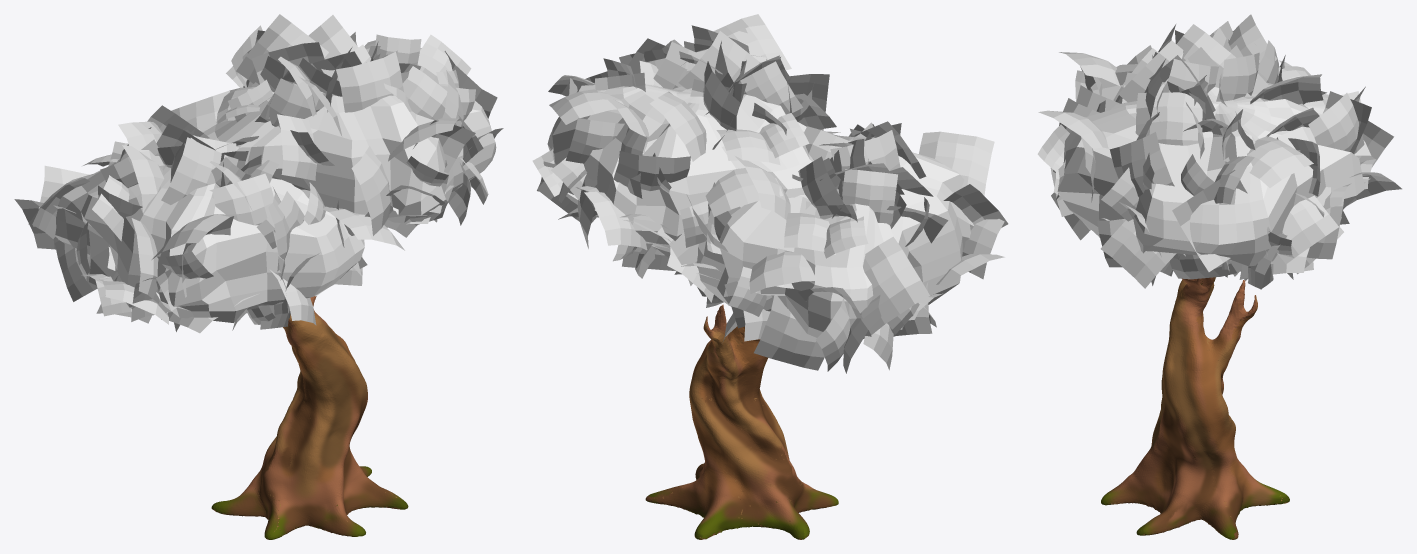
The model's file is cherry_blossom_tree2.1.fbx.
The picture shows the model from 3 angles, left to right: view 1: azimuth 30°, elevation 25°; view 2: azimuth 150°, elevation 25°; view 3: azimuth 270°, elevation 25°; orthographic projection.
Visible parts, largest first — view 1: leafs2, tree_hp, leafs, leafs|cherry|Dupli|52, leafs2|cherry|Dupli|41, leafs2|cherry|Dupli|52, leafs|cherry|Dupli|55, leafs|cherry|Dupli|90, leafs|cherry|Dupli|63, leafs|cherry|Dupli|41, leafs|cherry|Dupli|73, leafs2|cherry|Dupli|55 (+34 smaller); view 2: tree_hp, leafs2, leafs, leafs2|cherry|Dupli|71, leafs2|cherry|Dupli|83, leafs2|cherry|Dupli|46, leafs2|cherry|Dupli|76, leafs|cherry|Dupli|97, leafs2|cherry|Dupli|87, leafs|cherry|Dupli|90, leafs|cherry|Dupli|54, leafs|cherry|Dupli|87 (+37 smaller); view 3: leafs, tree_hp, leafs|cherry|Dupli|40, leafs|cherry|Dupli|29, leafs|cherry|Dupli|35, leafs|cherry|Dupli|9, leafs|cherry|Dupli|13, leafs|cherry|Dupli|96, leafs|cherry|Dupli|82, leafs|cherry|Dupli|23, leafs|cherry|Dupli|90, leafs|cherry|Dupli|64 (+25 smaller).
Boxes of the visible parts, left/top/right/bottom form: leafs2: left=55, top=159, right=364, bottom=322; tree_hp: left=211, top=296, right=408, bottom=539; leafs: left=203, top=79, right=496, bottom=235; leafs|cherry|Dupli|52: left=336, top=51, right=403, bottom=112; leafs2|cherry|Dupli|41: left=209, top=173, right=273, bottom=225; leafs2|cherry|Dupli|52: left=161, top=137, right=238, bottom=204; leafs|cherry|Dupli|55: left=351, top=146, right=390, bottom=235; leafs|cherry|Dupli|90: left=236, top=14, right=328, bottom=83; leafs|cherry|Dupli|63: left=277, top=114, right=316, bottom=180; leafs|cherry|Dupli|41: left=402, top=66, right=447, bottom=120; leafs|cherry|Dupli|73: left=255, top=78, right=333, bottom=126; leafs2|cherry|Dupli|55: left=131, top=218, right=159, bottom=303; tree_hp: left=645, top=304, right=838, bottom=539; leafs2: left=696, top=152, right=973, bottom=338; leafs: left=547, top=55, right=813, bottom=252; leafs2|cherry|Dupli|71: left=863, top=236, right=929, bottom=335; leafs2|cherry|Dupli|83: left=754, top=295, right=824, bottom=370; leafs2|cherry|Dupli|46: left=919, top=131, right=994, bottom=195; leafs2|cherry|Dupli|76: left=841, top=169, right=897, bottom=225; leafs|cherry|Dupli|97: left=613, top=151, right=690, bottom=190; leafs2|cherry|Dupli|87: left=749, top=251, right=816, bottom=293; leafs|cherry|Dupli|90: left=650, top=91, right=706, bottom=161; leafs|cherry|Dupli|54: left=678, top=31, right=760, bottom=89; leafs|cherry|Dupli|87: left=705, top=168, right=782, bottom=216; leafs: left=1057, top=87, right=1364, bottom=266; tree_hp: left=1101, top=277, right=1289, bottom=539; leafs|cherry|Dupli|40: left=1135, top=92, right=1202, bottom=145; leafs|cherry|Dupli|29: left=1100, top=219, right=1176, bottom=288; leafs|cherry|Dupli|35: left=1109, top=132, right=1174, bottom=197; leafs|cherry|Dupli|9: left=1277, top=195, right=1338, bottom=264; leafs|cherry|Dupli|13: left=1223, top=136, right=1313, bottom=187; leafs|cherry|Dupli|96: left=1308, top=93, right=1364, bottom=154; leafs|cherry|Dupli|82: left=1216, top=52, right=1259, bottom=101; leafs|cherry|Dupli|23: left=1172, top=170, right=1271, bottom=271; leafs|cherry|Dupli|90: left=1250, top=74, right=1323, bottom=104; leafs|cherry|Dupli|64: left=1118, top=40, right=1183, bottom=102.
Bounding box in the file's own units: 1486 × 1577 × 1127.
Materials: 2 (1 with a texture image).
